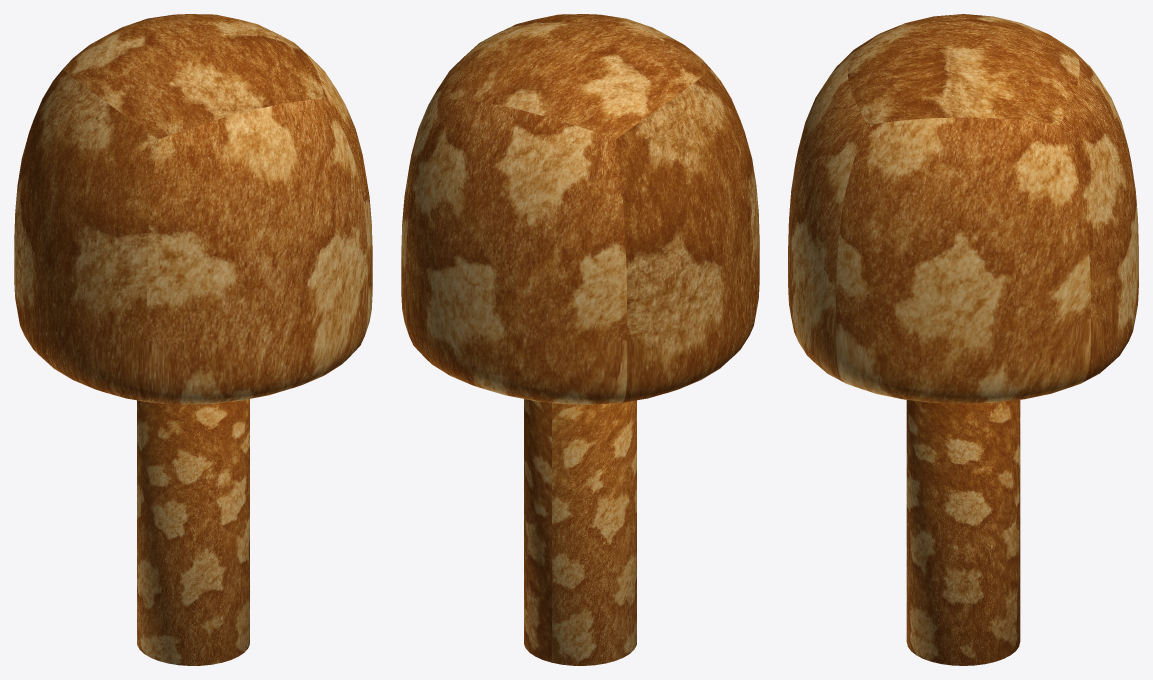
Rendered from hongo.obj.
3 renders of one model, left to right at view 1: azimuth 30°, elevation 25°; view 2: azimuth 150°, elevation 25°; view 3: azimuth 270°, elevation 25°, orthographic.
Visible parts, largest first — view 1: Cube, Cylinder; view 2: Cube, Cylinder; view 3: Cube, Cylinder.
Part boxes in pixels (x1,y1,x2,y2): Cube: [14, 14, 372, 404]; Cylinder: [137, 399, 249, 665]; Cube: [401, 14, 759, 404]; Cylinder: [524, 399, 636, 665]; Cube: [788, 14, 1138, 403]; Cylinder: [906, 400, 1020, 665].
Bounding box in the file's own units: 3.71 × 7.1 × 3.71.
2 materials, 2 textured.
